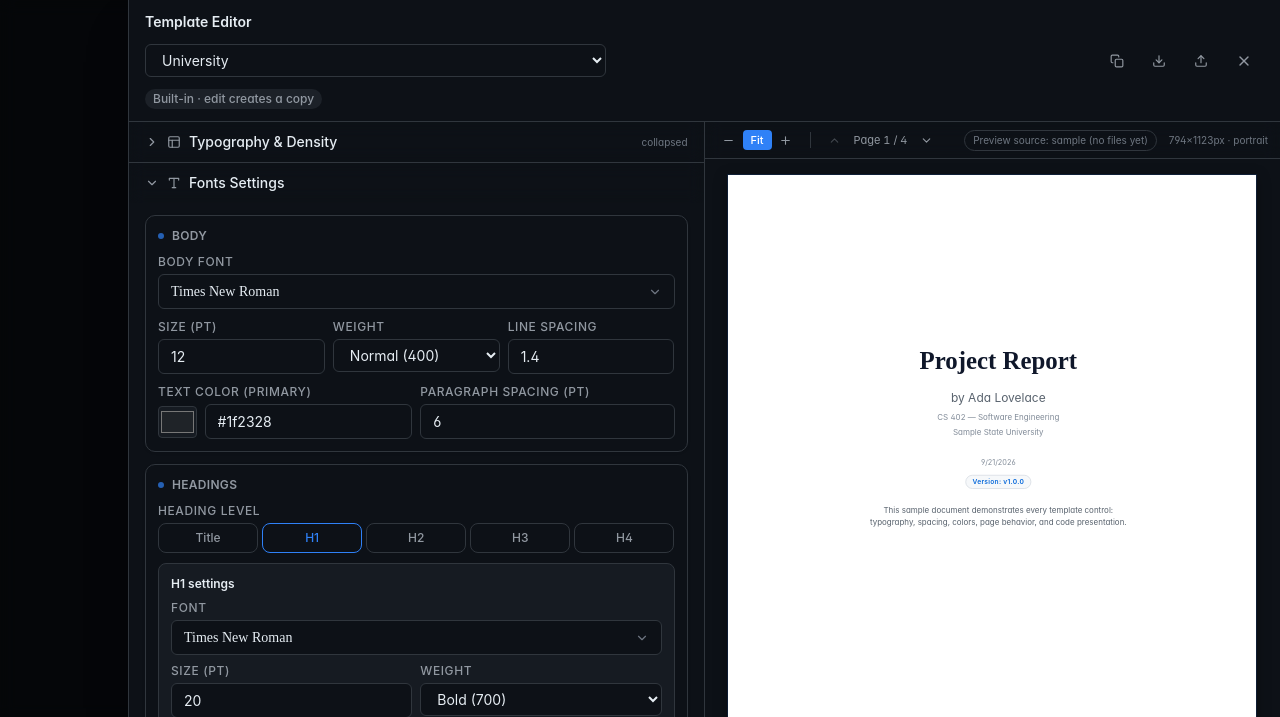
dependent settings are hidden (spec §4) › the heading "Numbered" toggle is hidden for the Title level (titles are never numbered)
Step 1. Click the tab "Title" → coordinates (208, 538), box x1=158 y1=523 x2=258 y2=553
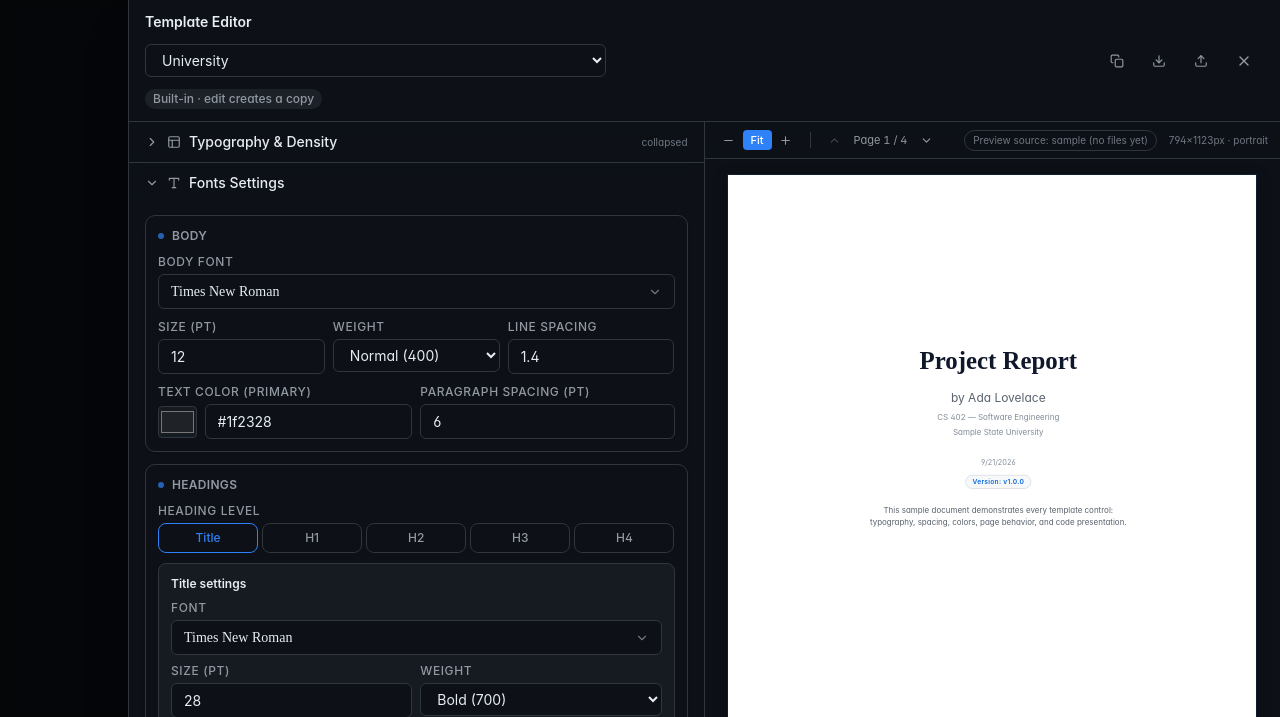
Expected: the field labelled "Numbered" is not shown
Step 2. Click the tab "H1" → coordinates (312, 538), box x1=262 y1=523 x2=362 y2=553
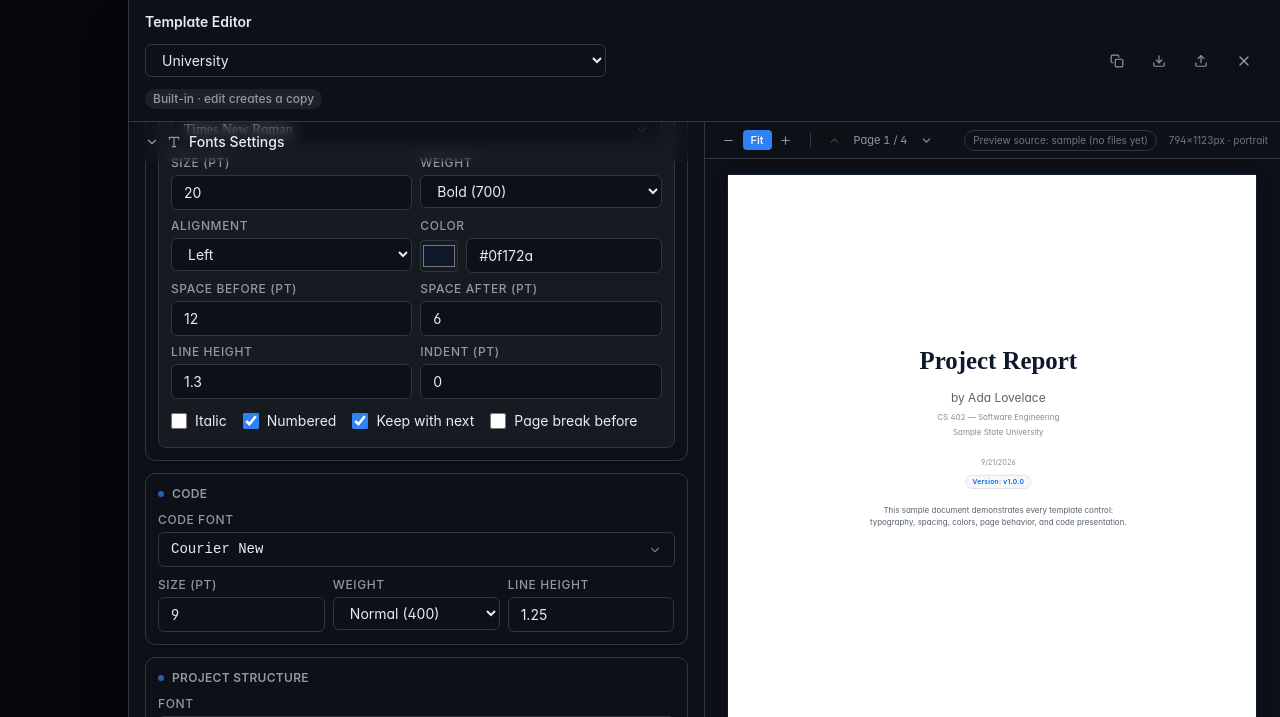
Now the checkbox labelled "Numbered" is shown, box x1=243 y1=413 x2=259 y2=429
